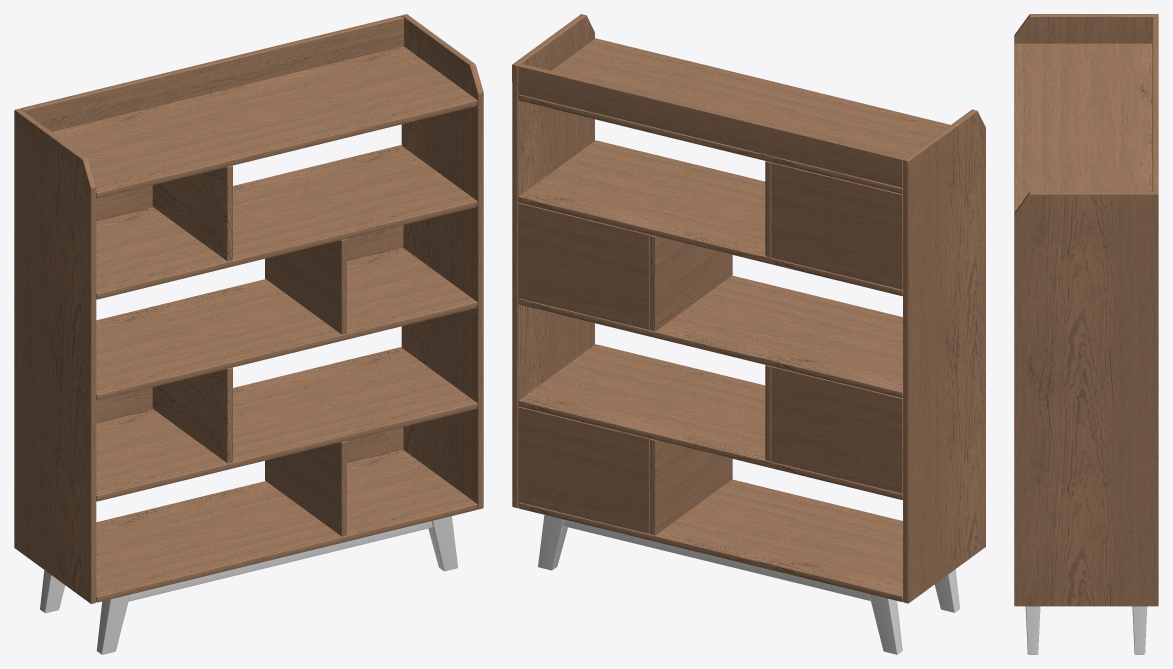
File: library2.gltf
The picture shows the model from 3 angles, left to right: view 1: azimuth 30°, elevation 25°; view 2: azimuth 150°, elevation 25°; view 3: azimuth 270°, elevation 25°; orthographic projection. The views are drawn at different scales.
Visible parts, largest first — view 1: SM_Library08; view 2: SM_Library08; view 3: SM_Library08.
Part boxes in pixels (x1,y1,x2,y2): SM_Library08: [14, 14, 483, 654]; SM_Library08: [512, 14, 985, 654]; SM_Library08: [1014, 14, 1158, 654].
Size of the model in its own units: 1.16 by 1.41 by 0.393.
2 materials, 1 textured.
